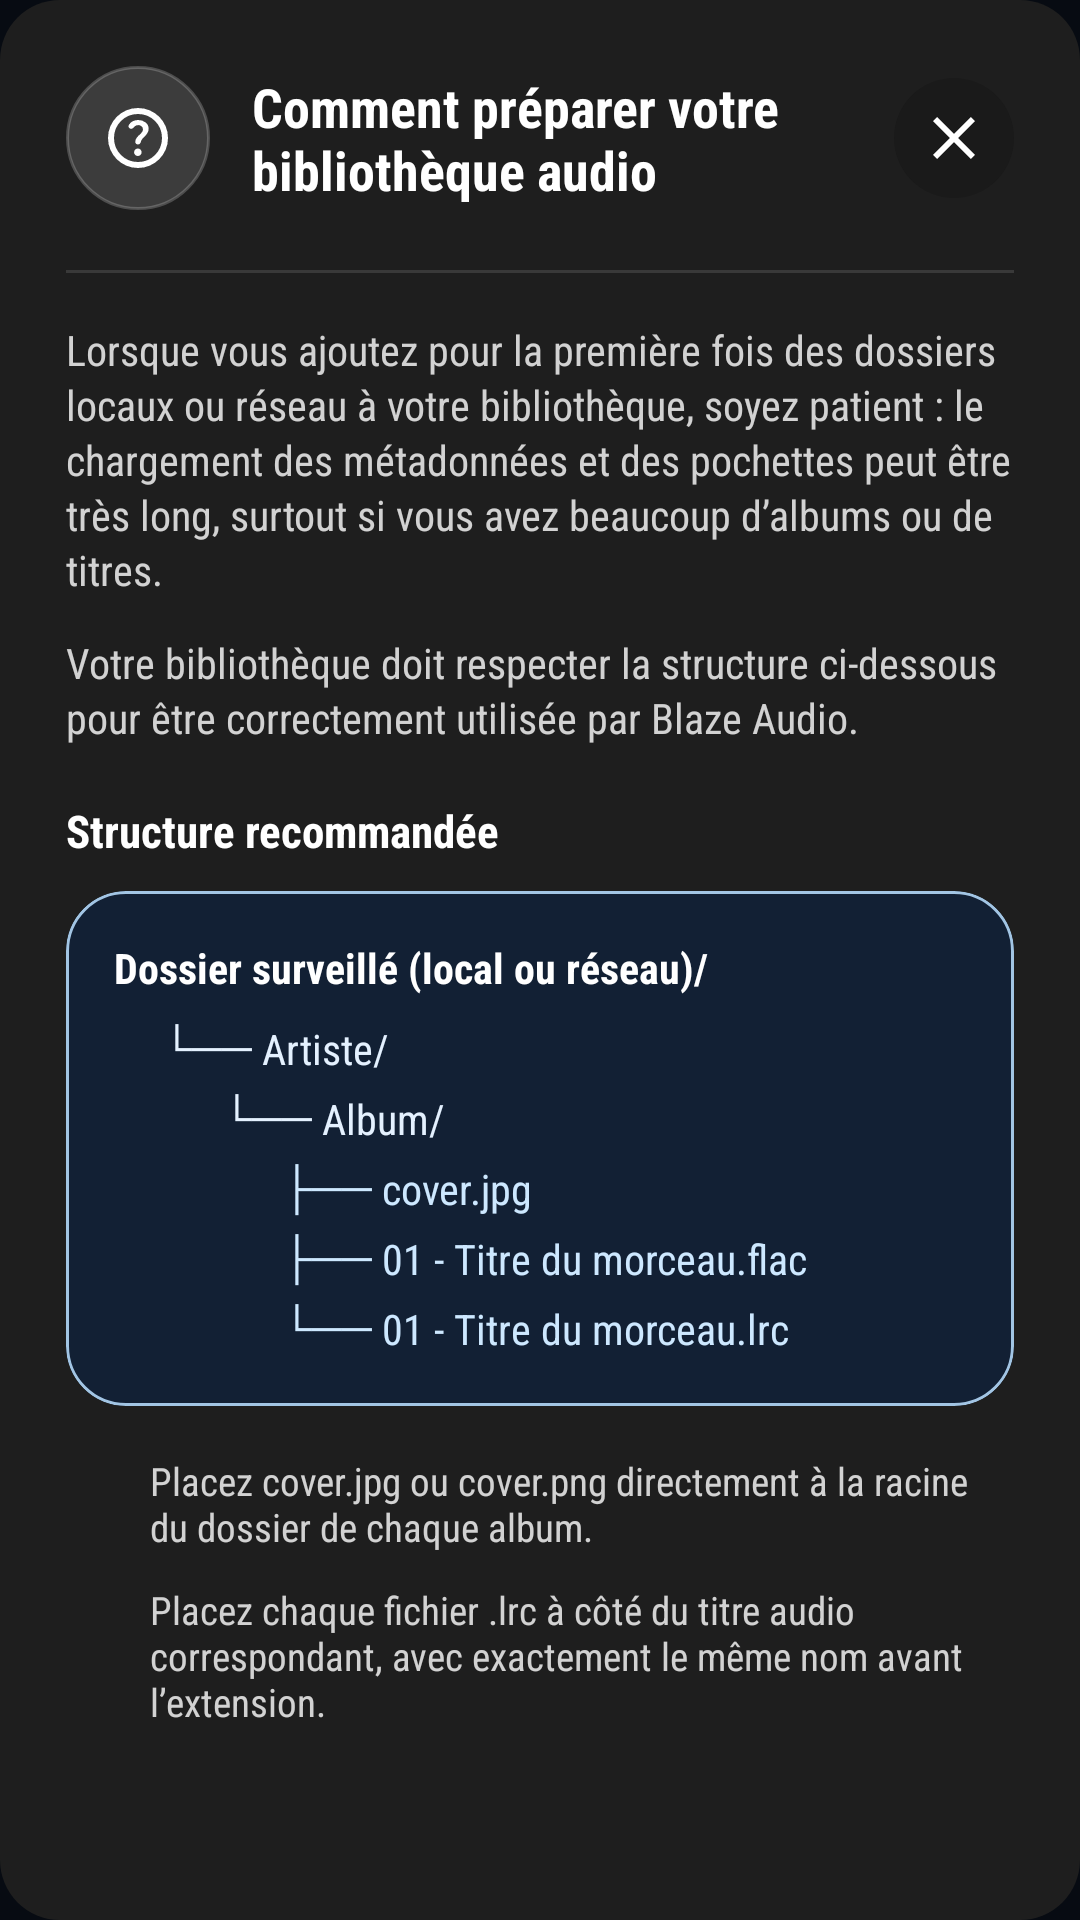

Icons on this 1080px x 1920px Android screen, each with its box as {"left": x1, "top": y1, "right": x2, "bottom": y2}:
Fermer: {"left": 933, "top": 117, "right": 975, "bottom": 159}
help circle: {"left": 108, "top": 108, "right": 168, "bottom": 168}
